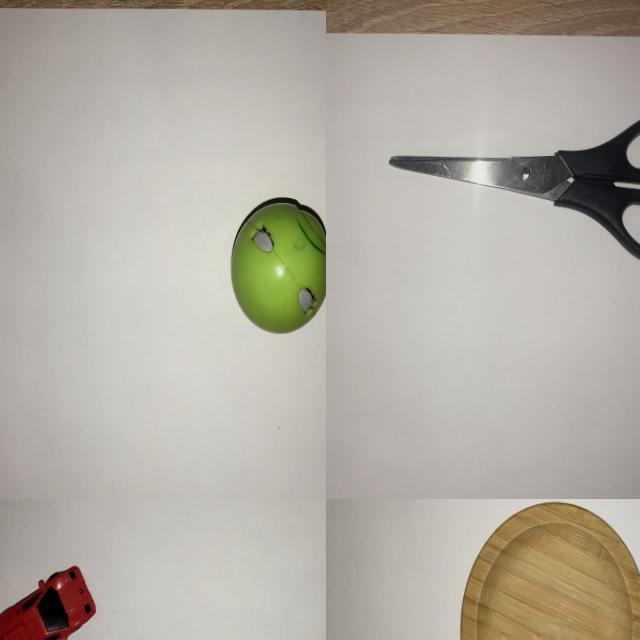car: (0, 556, 102, 640)
cup_holder: (450, 499, 640, 640)
scissors: (384, 102, 640, 275)
toy: (225, 191, 326, 339)
